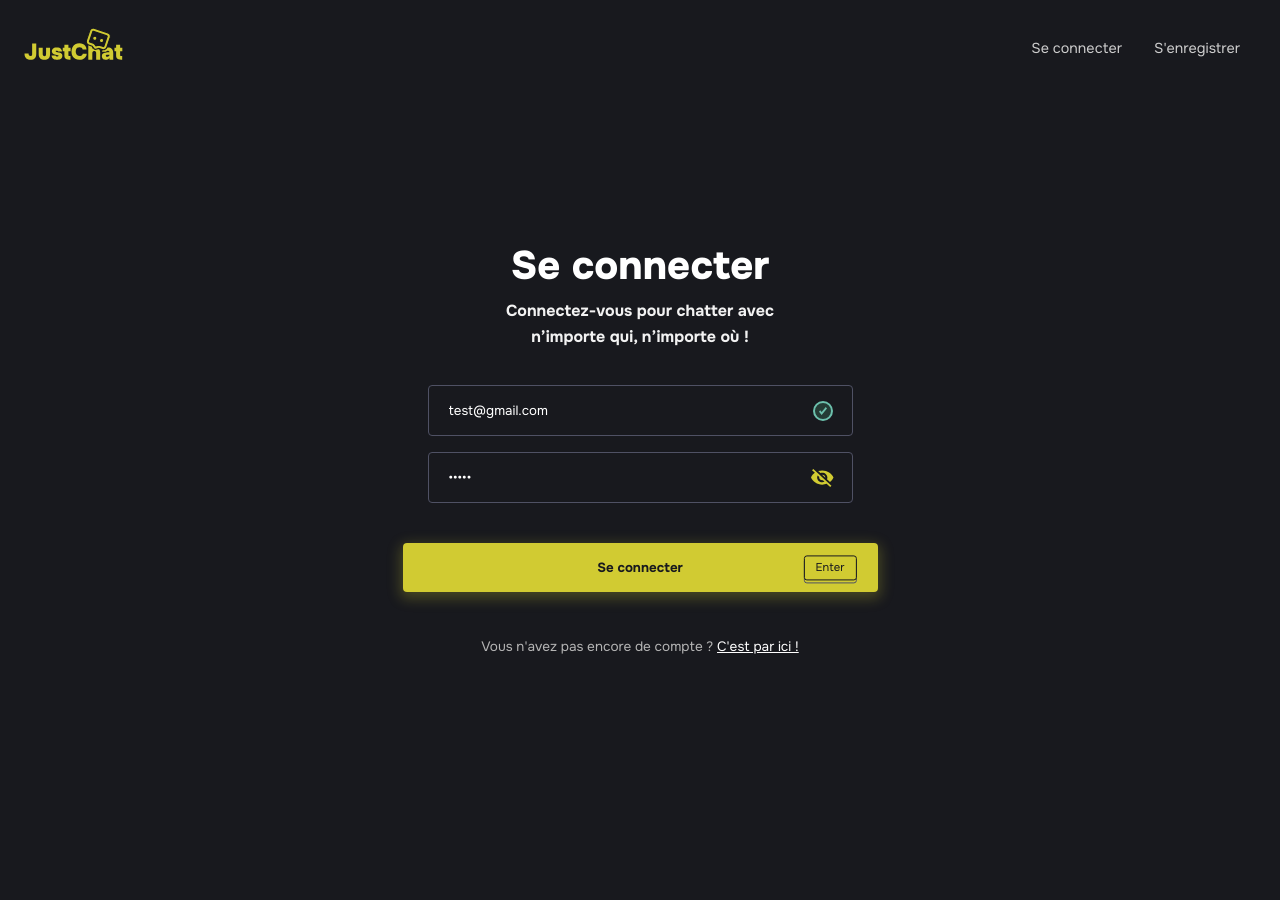
Password input behaviors are working › Press button to toggle hide password and verify that password input type has been changed into 'text'
Click the button with class "show-password".
click(822, 478)  # box [792, 452, 852, 503]
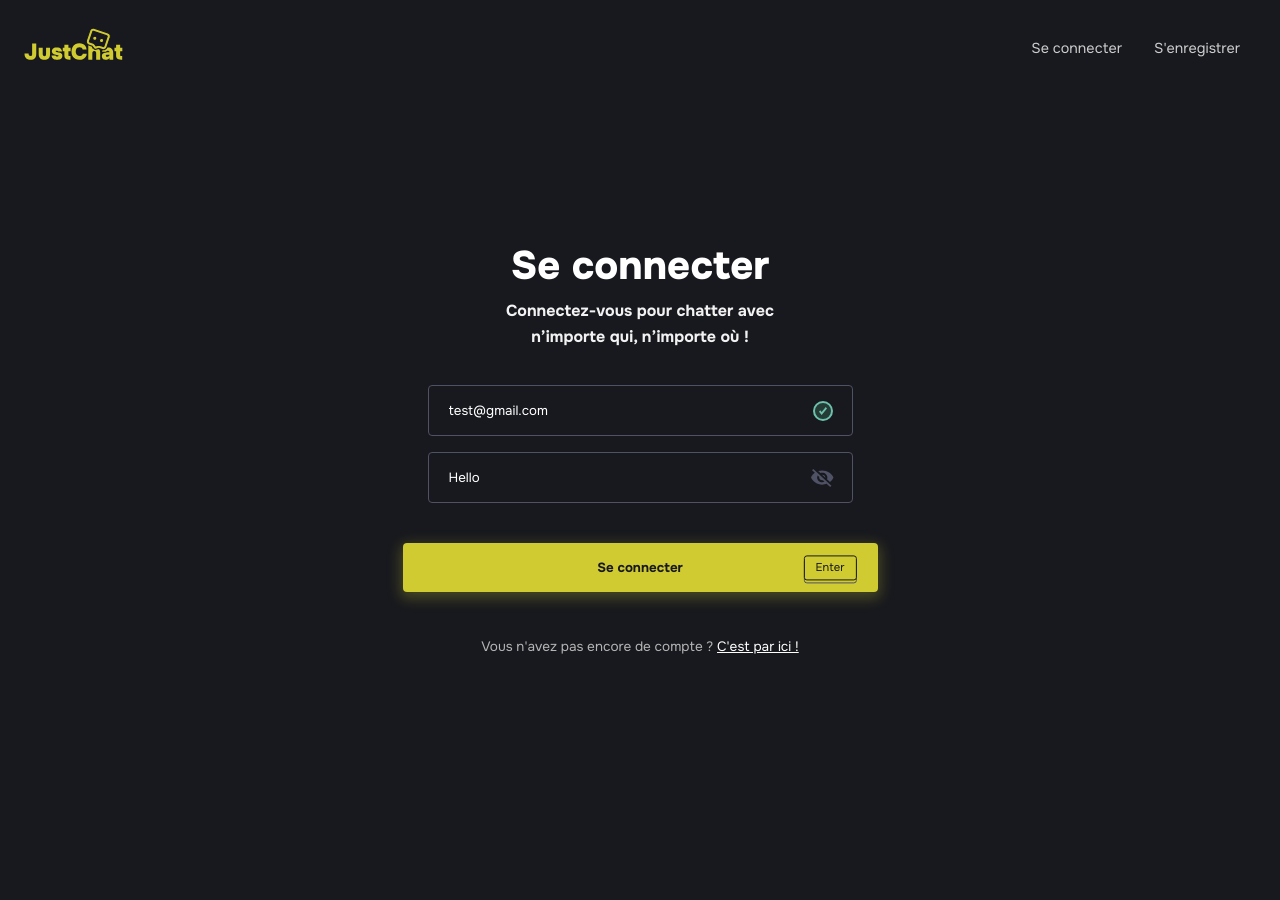
Now the 2nd field shows its text, box [428, 452, 852, 503]
